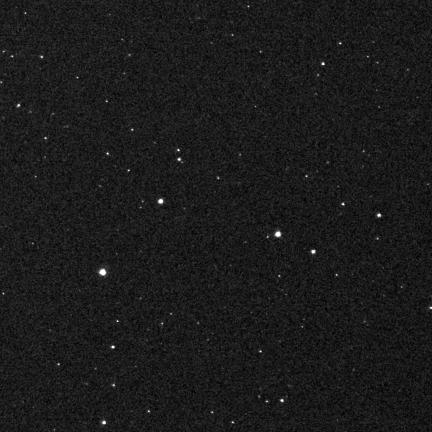blob: (275, 231, 282, 238)
